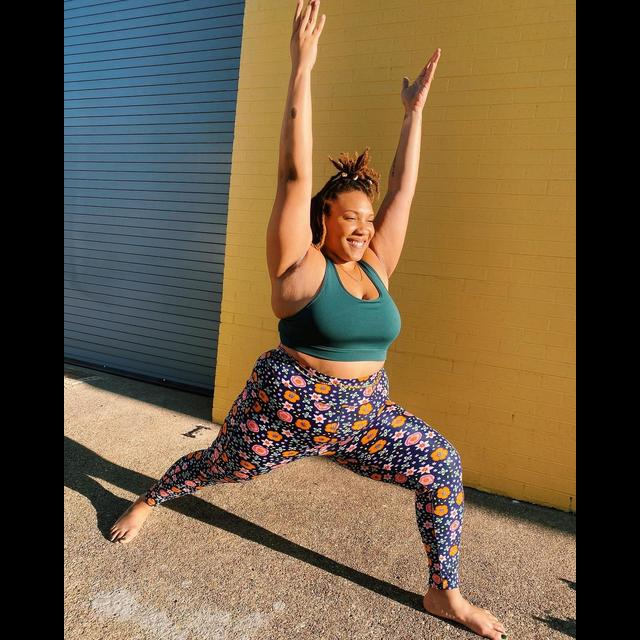Warrior_I: (93, 3, 515, 640)
